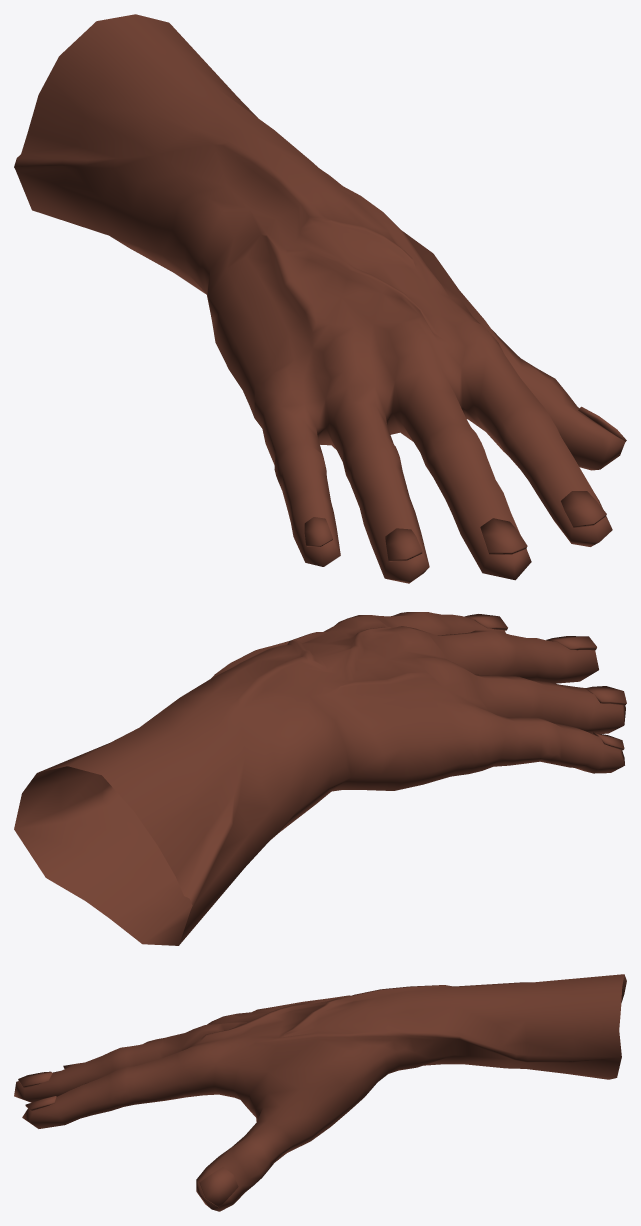
File: 5_1_HandSmoothRightBack.obj
3 views of the same model, one above another, from view 1: azimuth 30°, elevation 25°; view 2: azimuth 150°, elevation 25°; view 3: azimuth 270°, elevation 25° (orthographic). The views are drawn at different scales.
Parts seen in each view (by area): view 1: polySurface920.001; view 2: polySurface920.001; view 3: polySurface920.001.
Part boxes in pixels (left/top/right/bottom): polySurface920.001: left=14, top=14, right=626, bottom=583; polySurface920.001: left=14, top=612, right=626, bottom=945; polySurface920.001: left=14, top=974, right=626, bottom=1211.
Size of the model in its own units: 0.0873 by 0.0587 by 0.1856.
